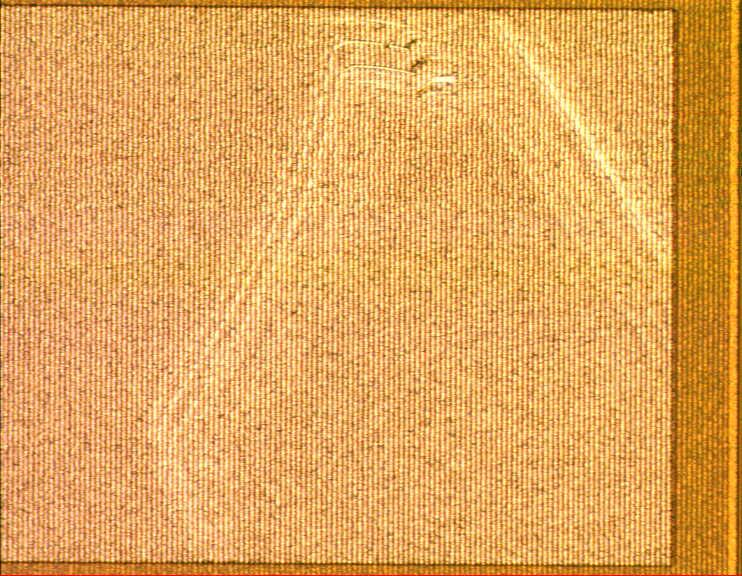SCRATCH: (113, 1, 712, 576)
